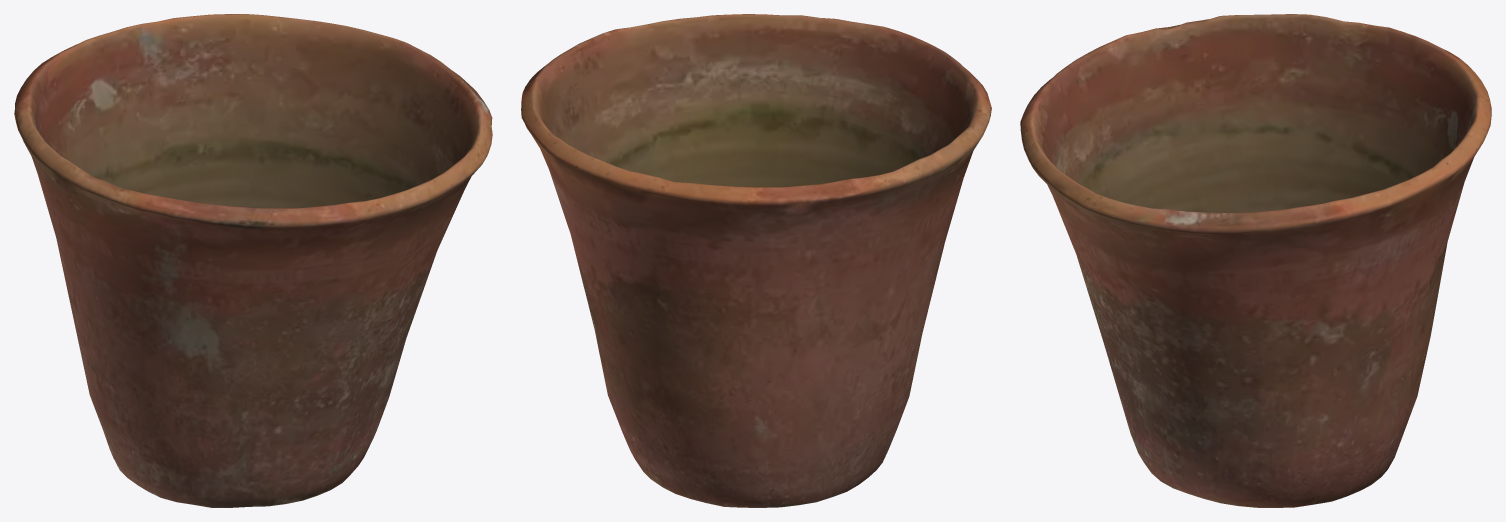
File: planter_pot_clay.glb
3 renders of one model, left to right at view 1: azimuth 30°, elevation 25°; view 2: azimuth 150°, elevation 25°; view 3: azimuth 270°, elevation 25°, orthographic.
Visible parts, largest first — view 1: planter_pot_clay; view 2: planter_pot_clay; view 3: planter_pot_clay.
Boxes of the visible parts, x1,y1,x2,y2 form: planter_pot_clay: (14, 14, 492, 507); planter_pot_clay: (521, 14, 991, 507); planter_pot_clay: (1020, 14, 1491, 507).
Bounding box in the file's own units: 0.266 × 0.2219 × 0.2635.
1 material, 1 textured.
